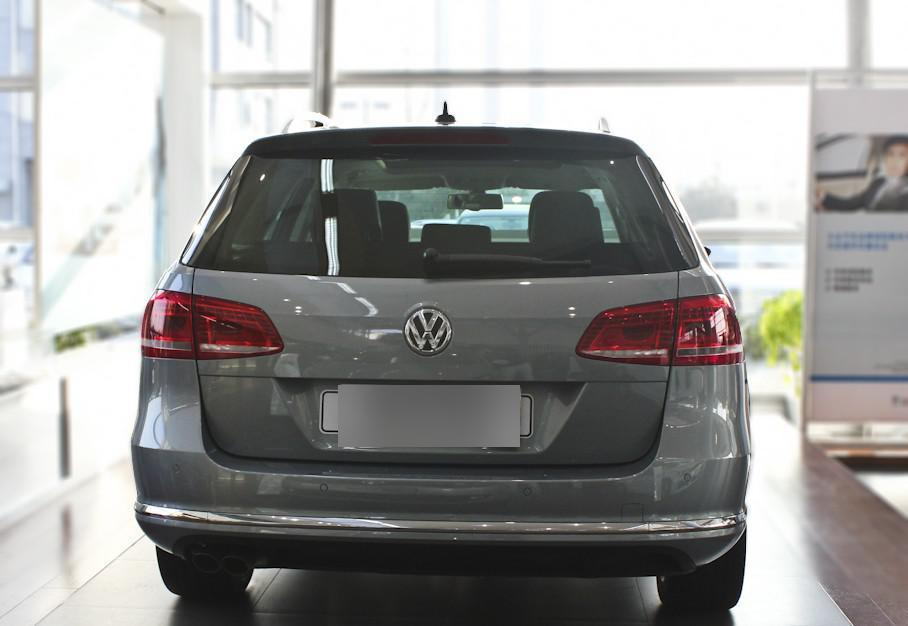Wagon: (130, 110, 751, 612)
